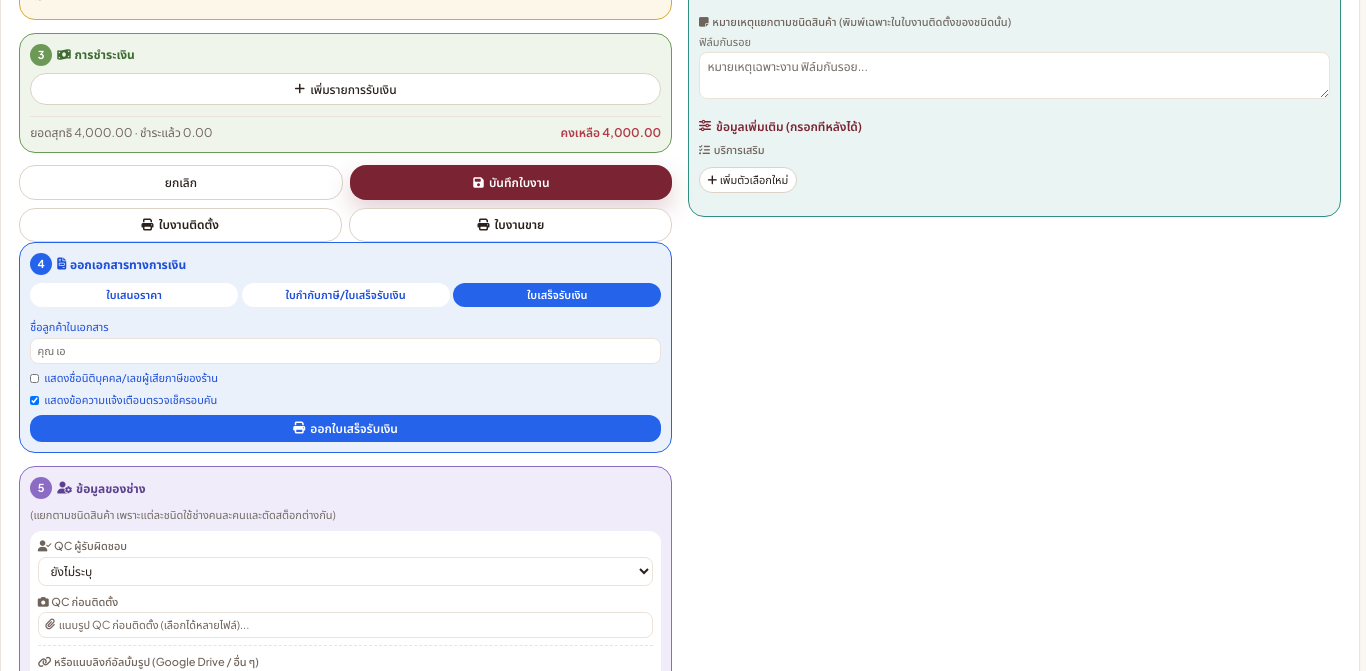
Test: TicketDetail — ล็อกใบกำกับภาษีเมื่อรายได้ Finnix › moves the selection off the tax invoice rather than leaving it selected
(page scrolled)
Step 1. Click the button "ใบกำกับภาษี/ใบเสร็จรับเงิน" → coordinates (346, 295), box [242, 283, 450, 307]
(page scrolled)
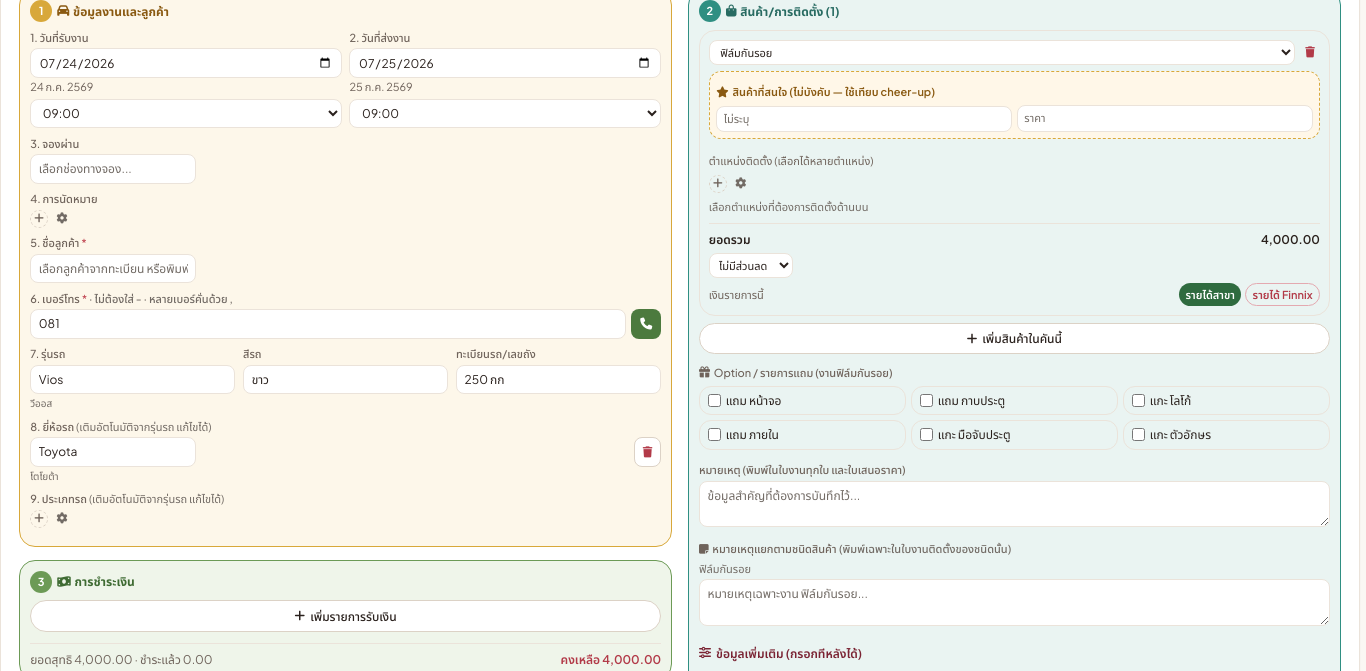
Step 2. Click the button with aria-label "รายได้ Finnix รายการที่ 1" → coordinates (1283, 295), box [1245, 283, 1320, 306]
(page scrolled)
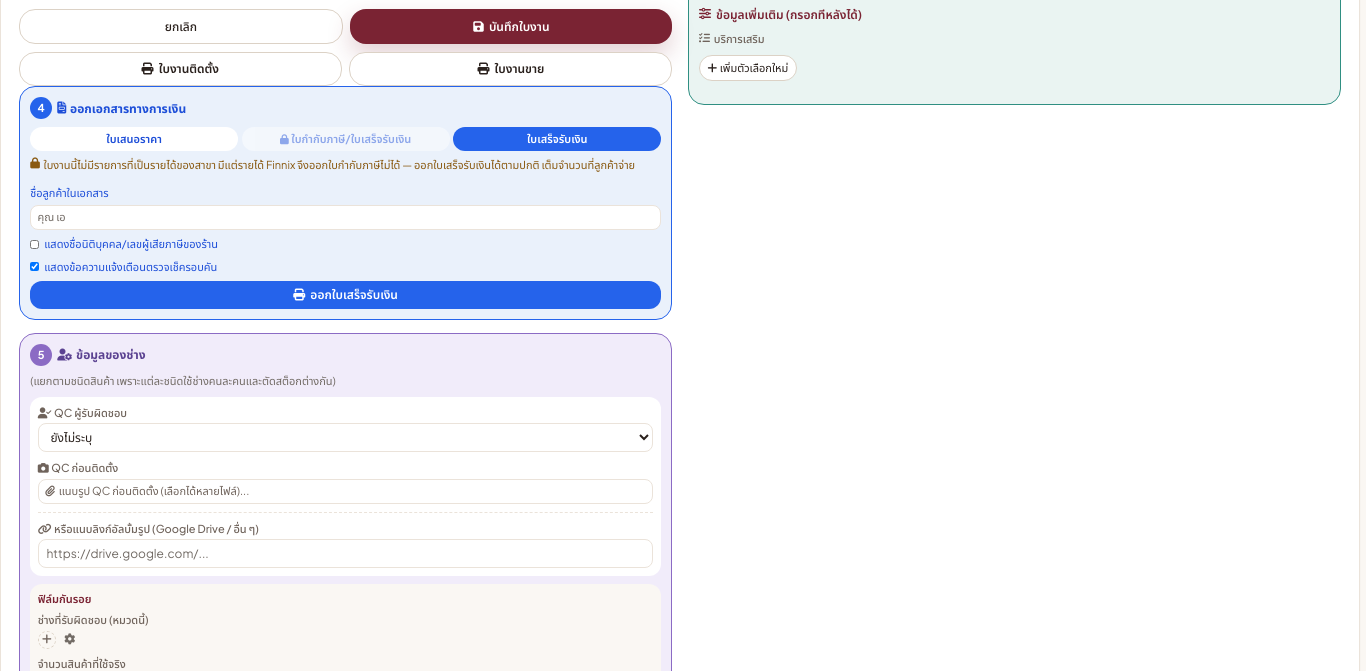
expect the button "ออกใบเสร็จรับเงิน" is shown: met, box [30, 281, 661, 308]
